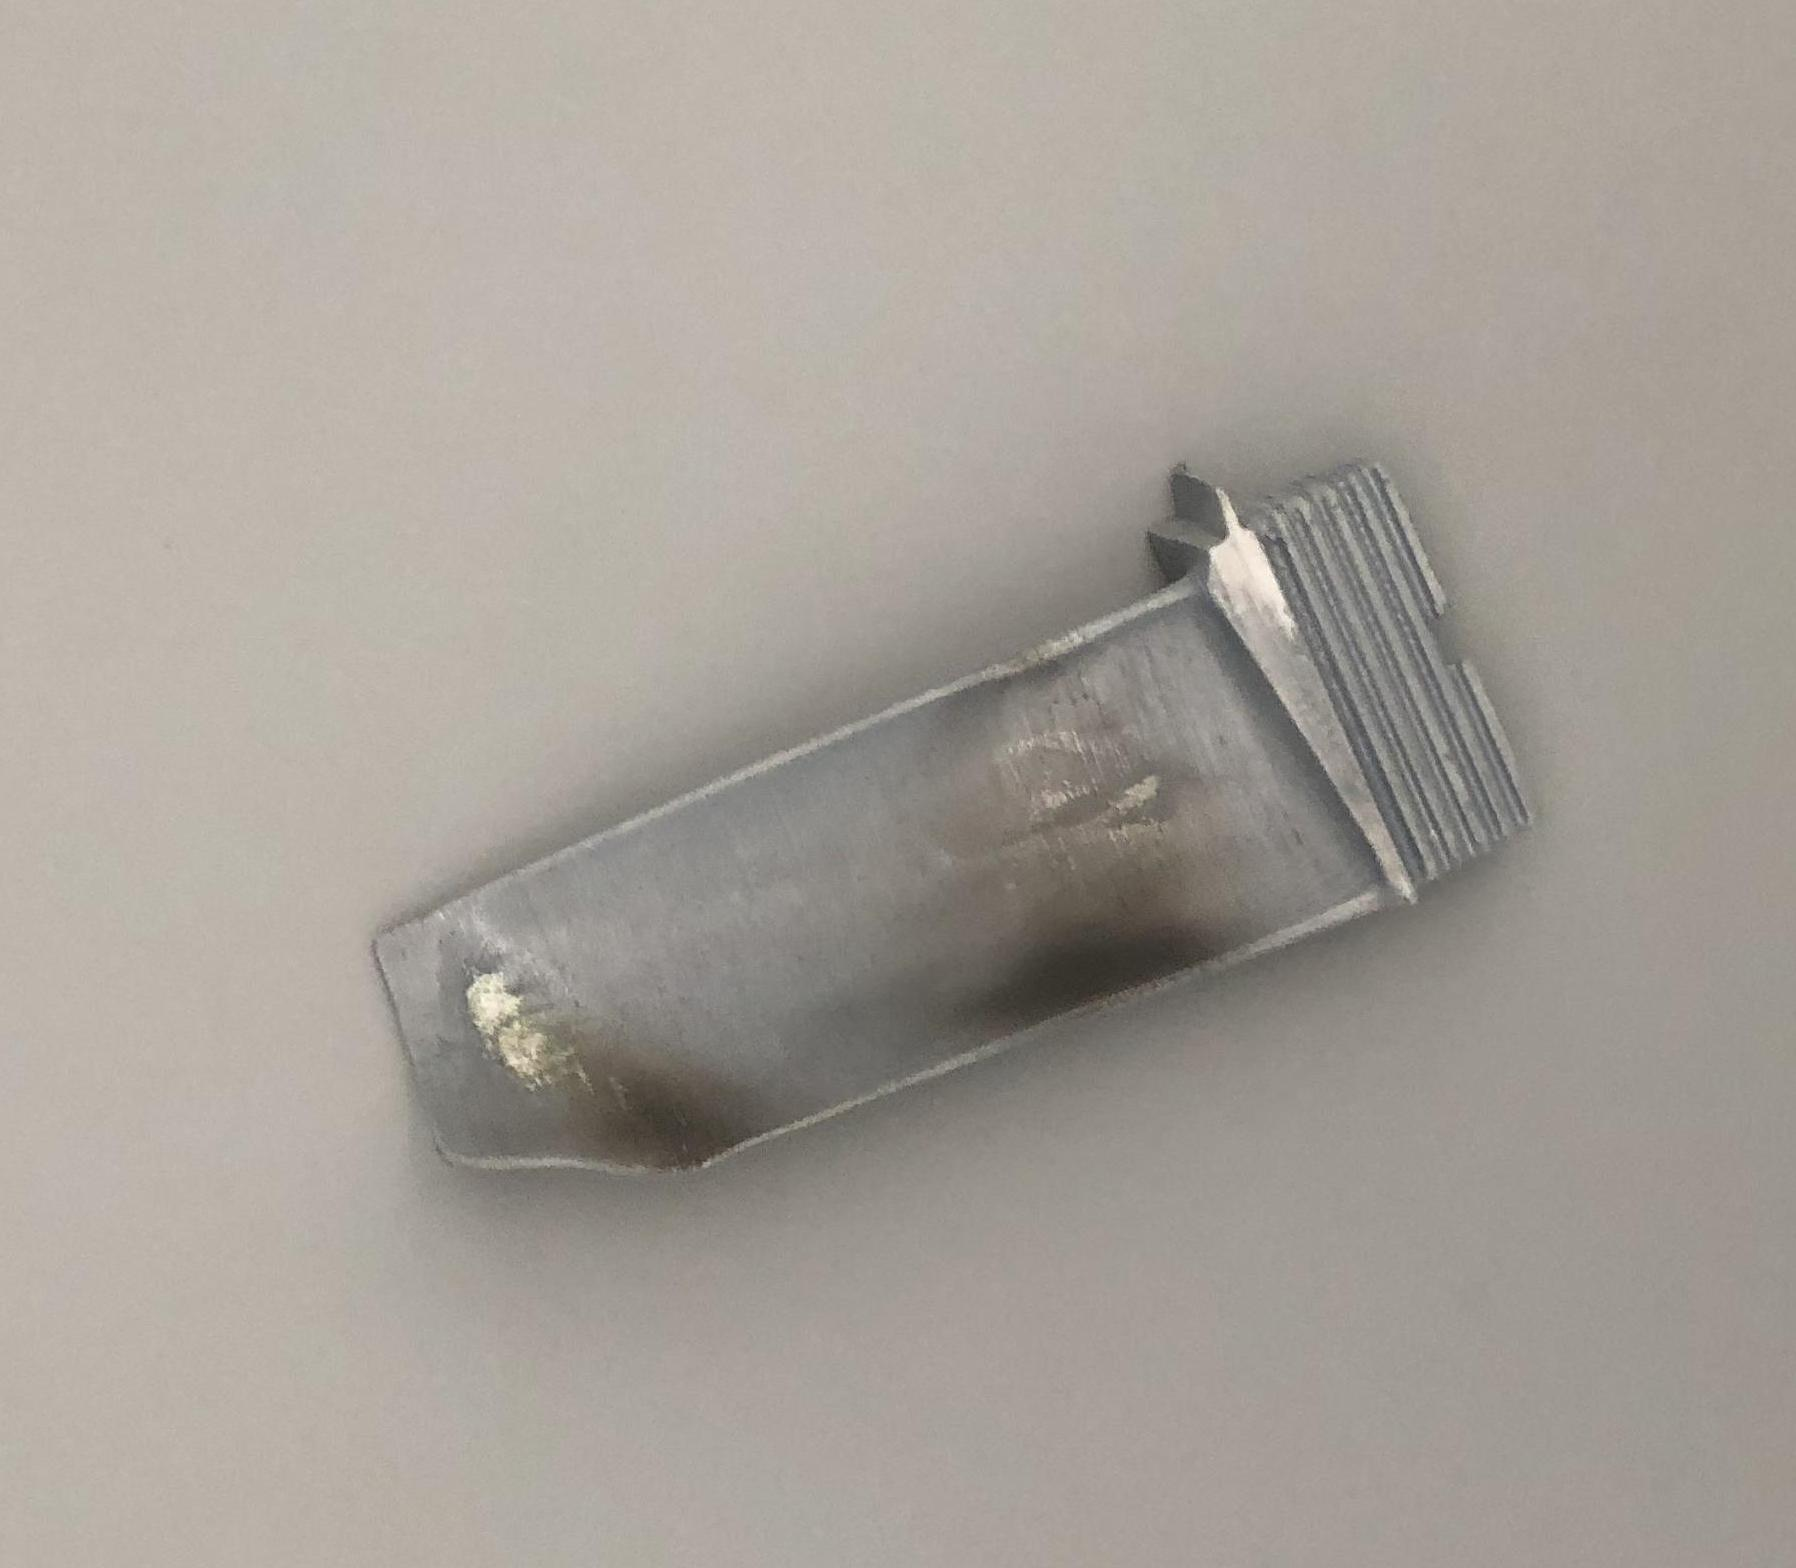ablation: (1013, 850, 1226, 982), (554, 1031, 757, 1157)
